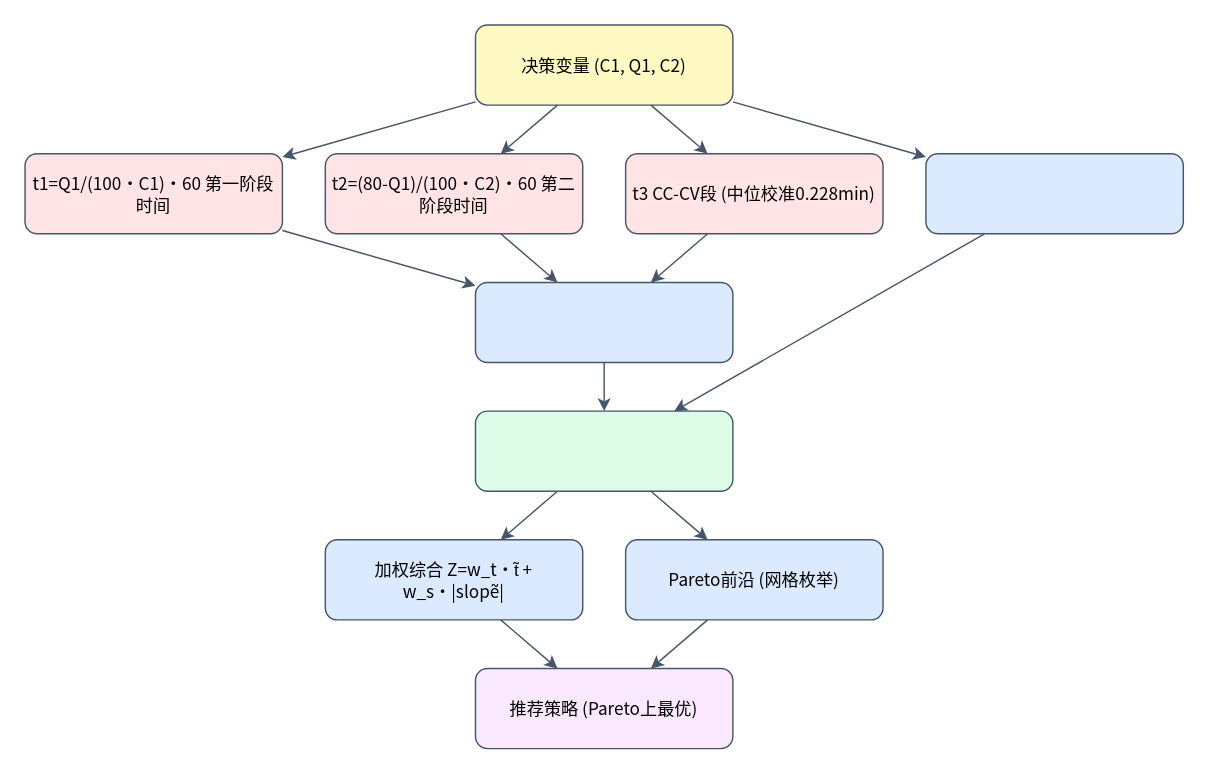
Some shapes in this 1208 by 774 pixel diagram are drawn without their labels. The shapes that lost their labels are listed below. From the top down, each one's centre as x and y in pixels, then its label:
[1053,193]: 衰减目标 ln|slope|=f(C,Q,E) →life=0.2/|slope|
[603,322]: 充电时间目标 t_ch=t1+t2+t3
[603,450]: 无量纲化 (按9策略min/max)
